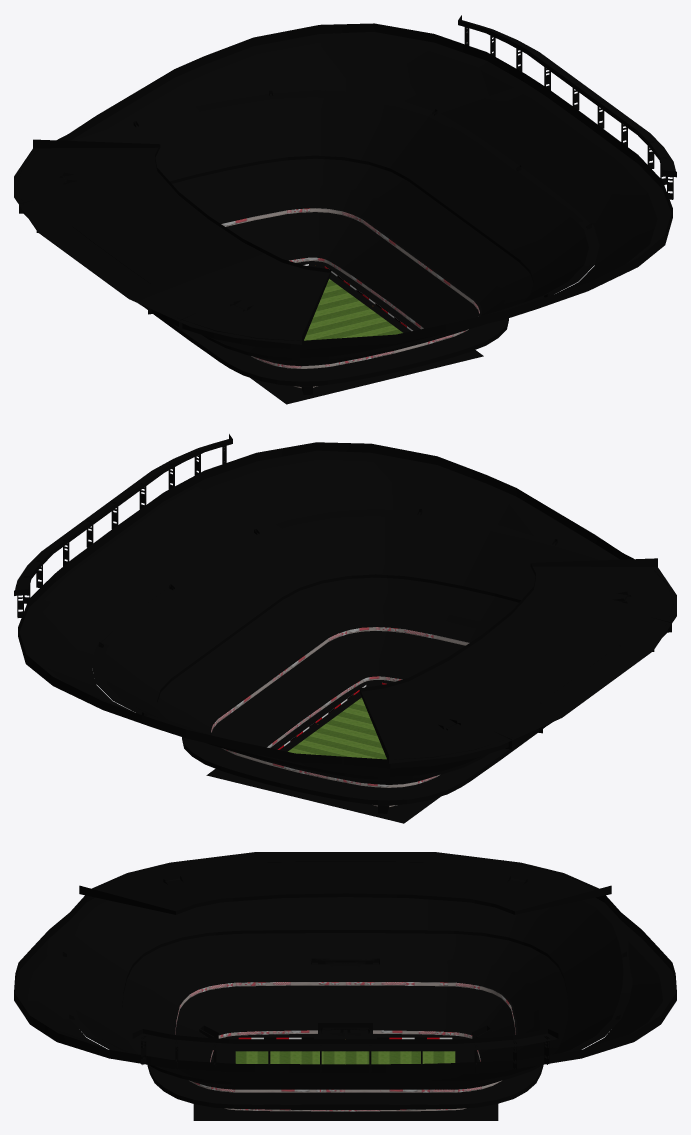
File: st_080_stadium.fbx
3 renders of one model, top to bottom at view 1: azimuth 30°, elevation 25°; view 2: azimuth 150°, elevation 25°; view 3: azimuth 270°, elevation 25°, orthographic.
Parts seen in each view (by area): view 1: st_080_Stadium; view 2: st_080_Stadium; view 3: st_080_Stadium.
Boxes of the visible parts, bbox=[...] form: st_080_Stadium: bbox=[14, 15, 676, 404]; st_080_Stadium: bbox=[14, 434, 676, 823]; st_080_Stadium: bbox=[14, 852, 676, 1120].
Size of the model in its own units: 279 by 88.79 by 317.
